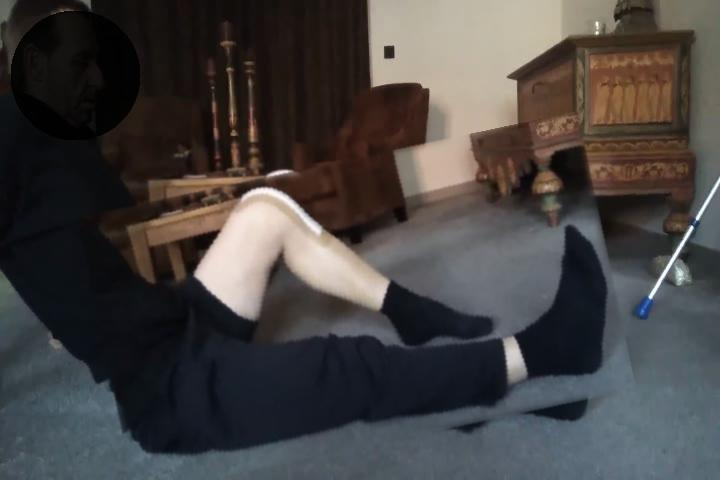lower_body: (90, 137, 626, 471)
